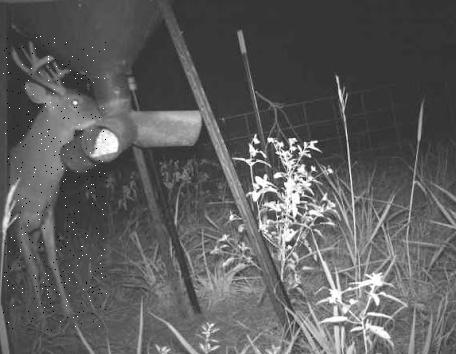Deer: (3, 36, 107, 331)
